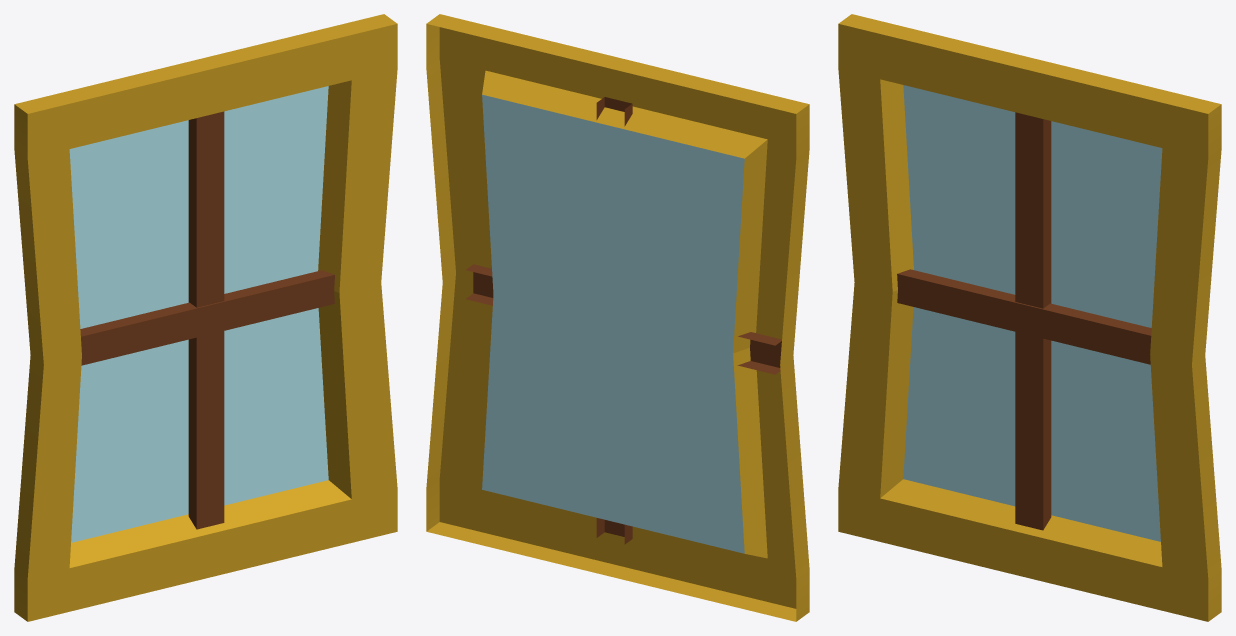
File: Window.FBX
3 views of the same model, side by side, from view 1: azimuth 30°, elevation 25°; view 2: azimuth 150°, elevation 25°; view 3: azimuth 330°, elevation 25° (orthographic).
Parts seen in each view (by area): view 1: Ventana; view 2: Ventana; view 3: Ventana.
Boxes of the visible parts, box(x1,y1,x2,y2) form: Ventana: box(14, 14, 397, 621); Ventana: box(426, 14, 809, 621); Ventana: box(838, 14, 1221, 621).
Bounding box in the file's own units: 1.3 × 0.0812 × 1.7.
